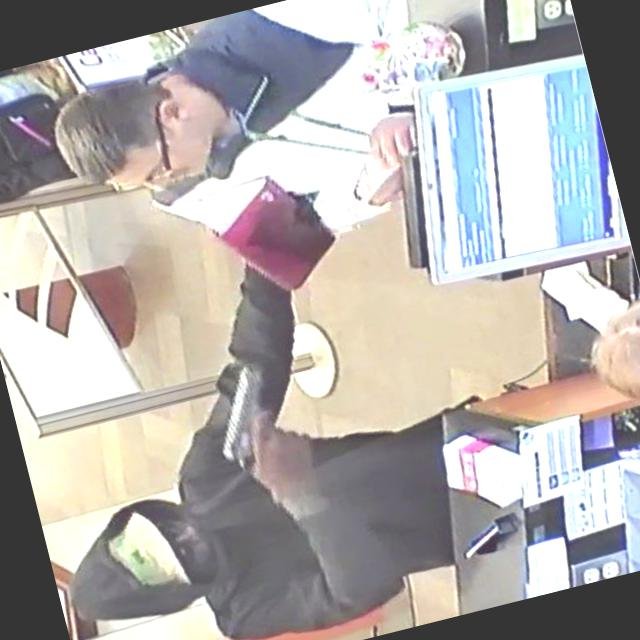handgun: (194, 349, 330, 484)
